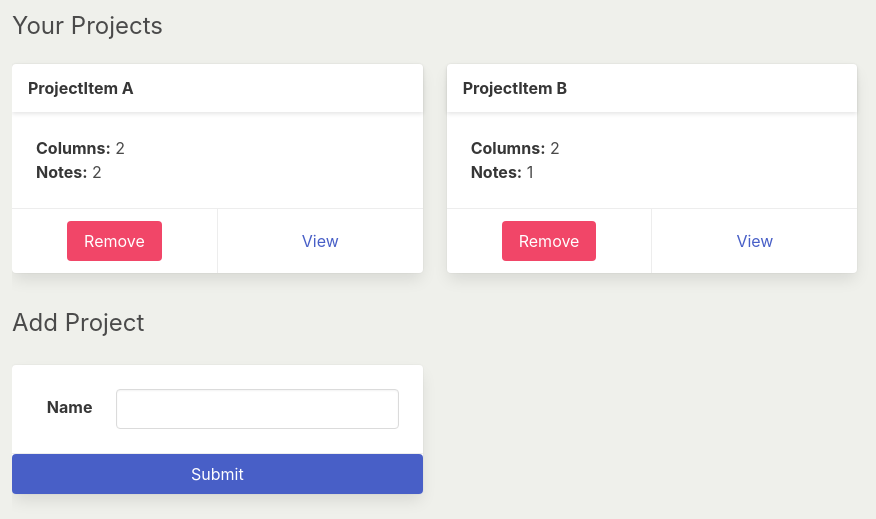
Test: Projects Page › can remove project from the project list
Check: the heading "ProjectItem B" is shown, box [463, 78, 567, 98]
Click the button with aria-label "remove-project-2".
click(549, 241)  # box [502, 221, 596, 261]
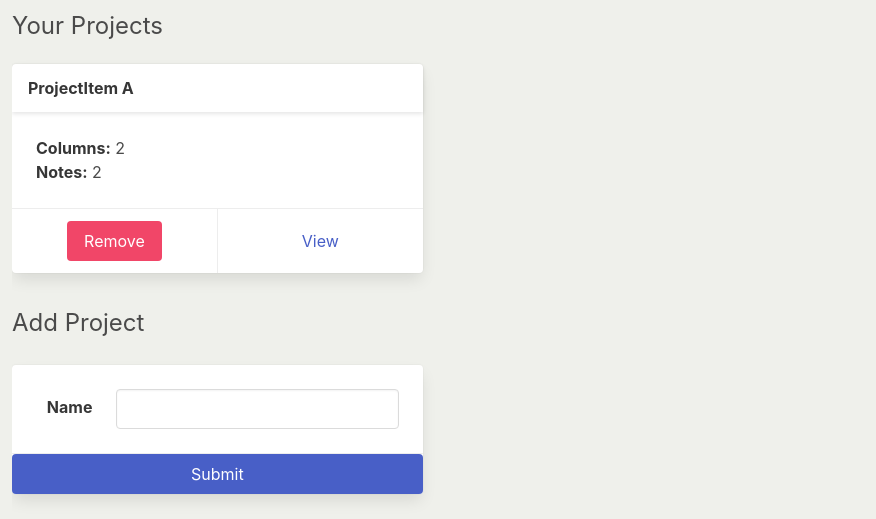
Check: the heading "ProjectItem B" is gone
